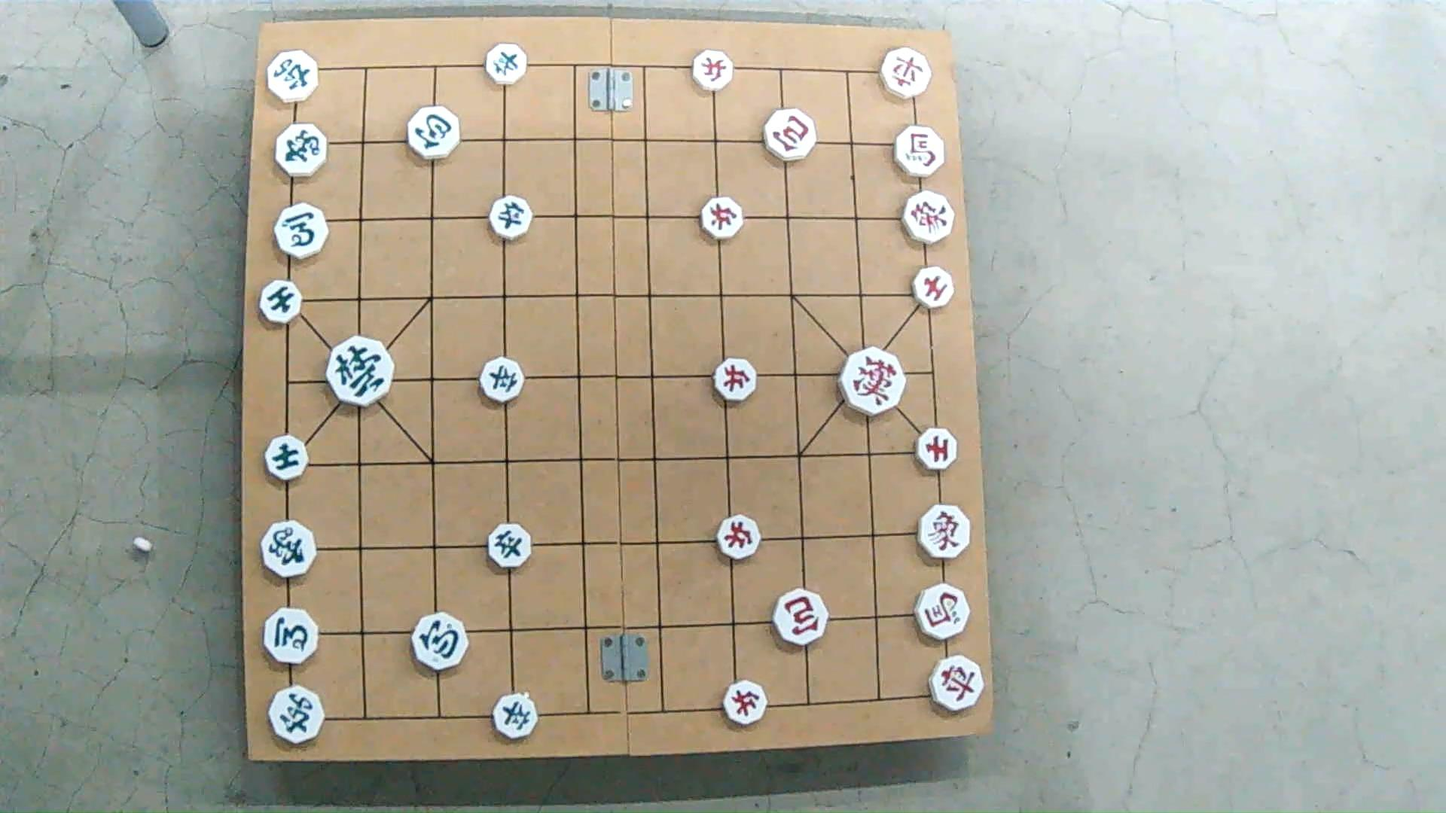cha_green: (268, 687, 325, 741), (269, 49, 319, 102)
cha_red: (930, 658, 987, 711), (878, 49, 930, 98)
jol_green: (477, 357, 526, 400), (488, 199, 533, 240), (485, 525, 529, 566), (493, 694, 537, 735), (484, 44, 525, 84)
jol_red: (721, 681, 766, 723), (715, 517, 759, 559), (699, 199, 743, 240), (712, 359, 756, 400), (691, 50, 735, 90)
ma_green: (267, 608, 320, 664), (275, 205, 328, 257)
ma_red: (919, 587, 973, 641), (891, 126, 943, 176)
po_green: (408, 612, 468, 673), (405, 109, 459, 160)
po_red: (774, 592, 829, 646), (763, 111, 815, 160)
sa_green: (258, 281, 304, 323), (265, 437, 308, 480)
sa_red: (909, 264, 955, 308), (917, 428, 957, 468)
sang_green: (264, 522, 316, 575), (275, 125, 329, 176)
sang_red: (920, 503, 972, 556), (899, 193, 952, 244)
wang_green: (325, 340, 392, 408)
wang_red: (840, 349, 905, 413)
